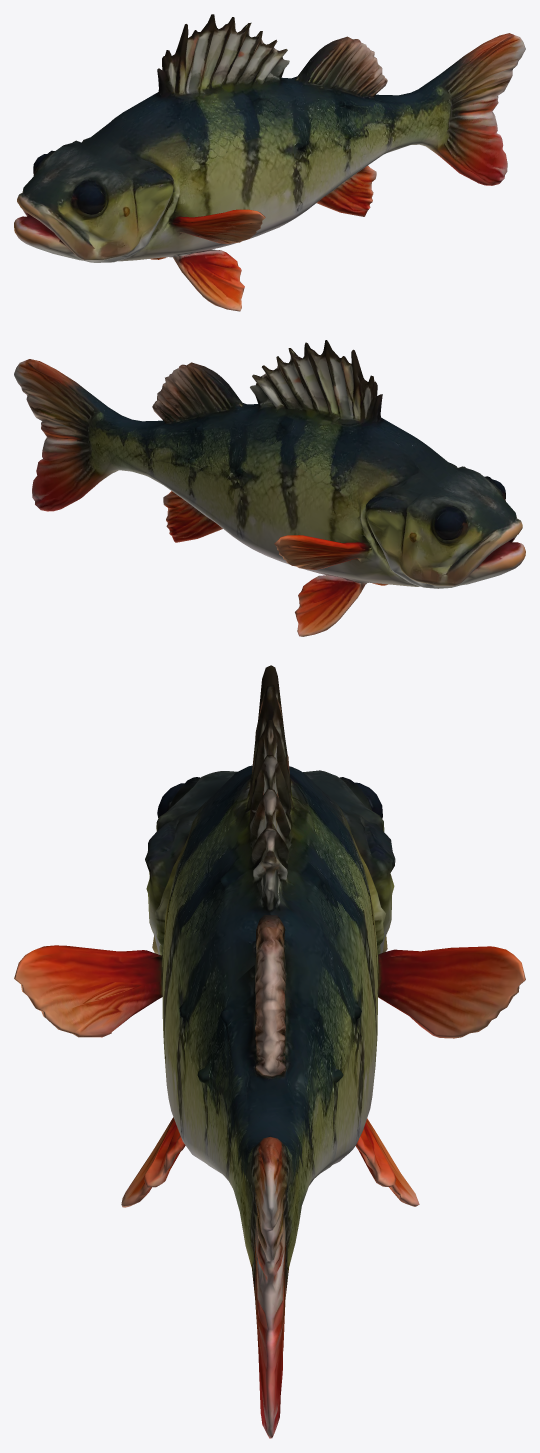
The model's file is fish-okun.glb.
3 renders of one model, top to bottom at view 1: azimuth 30°, elevation 25°; view 2: azimuth 150°, elevation 25°; view 3: azimuth 270°, elevation 25°, orthographic. The views are drawn at different scales.
Visible parts, largest first — view 1: tripo_node_deb97ae1-8003-42e5-8595-8ee797453232; view 2: tripo_node_deb97ae1-8003-42e5-8595-8ee797453232; view 3: tripo_node_deb97ae1-8003-42e5-8595-8ee797453232.
Boxes of the visible parts, x1,y1,x2,y2 form: tripo_node_deb97ae1-8003-42e5-8595-8ee797453232: [14, 14, 525, 311]; tripo_node_deb97ae1-8003-42e5-8595-8ee797453232: [14, 340, 525, 636]; tripo_node_deb97ae1-8003-42e5-8595-8ee797453232: [14, 665, 525, 1438].
Bounding box in the file's own units: 1 × 0.5025 × 0.4384.
Materials: 1 (1 with a texture image).
